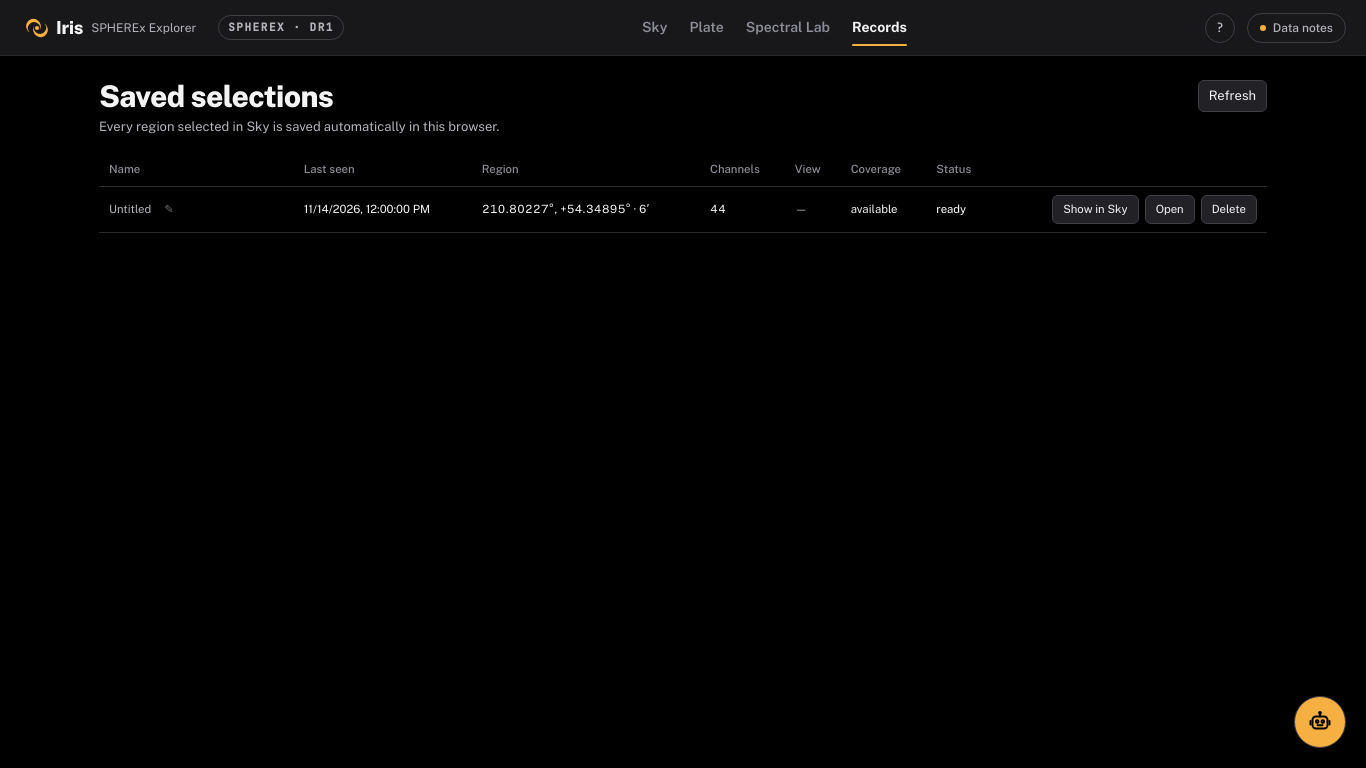
Test case: App workspace switch › edits the title in place and saves on blur
Click the button "Untitled" at (130, 209), box [109,201,151,218]
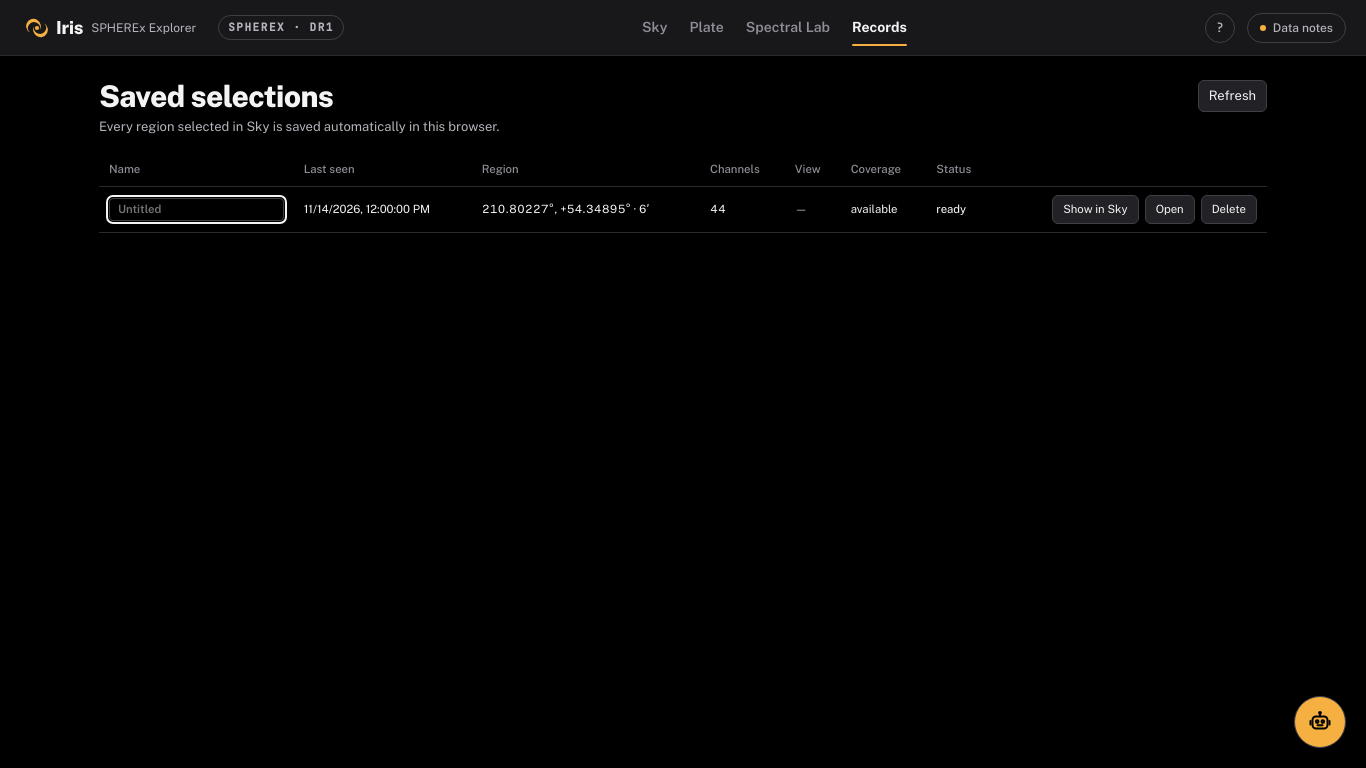
Type "M31" into the field named "Selection name" at (196, 209), box [109,198,284,221]
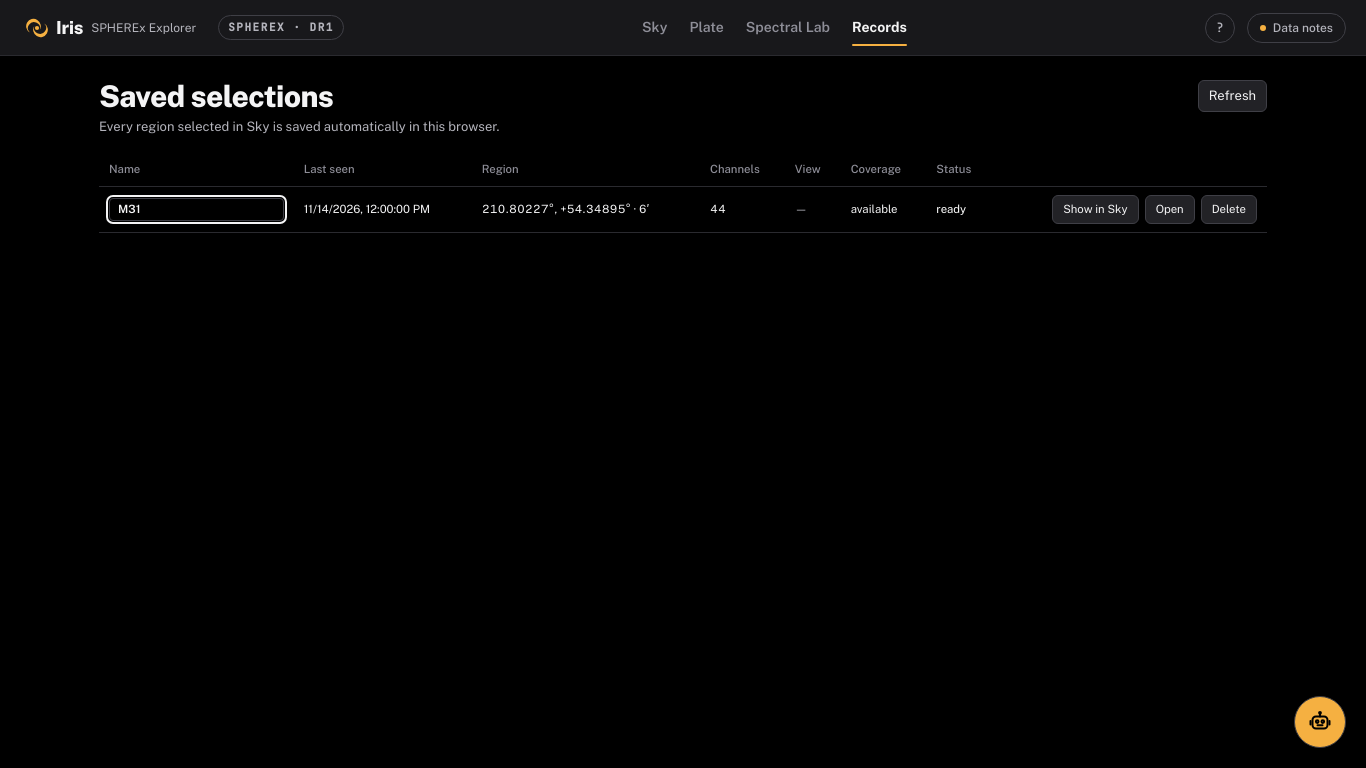
Leave the field named "Selection name", box [109,198,284,221]
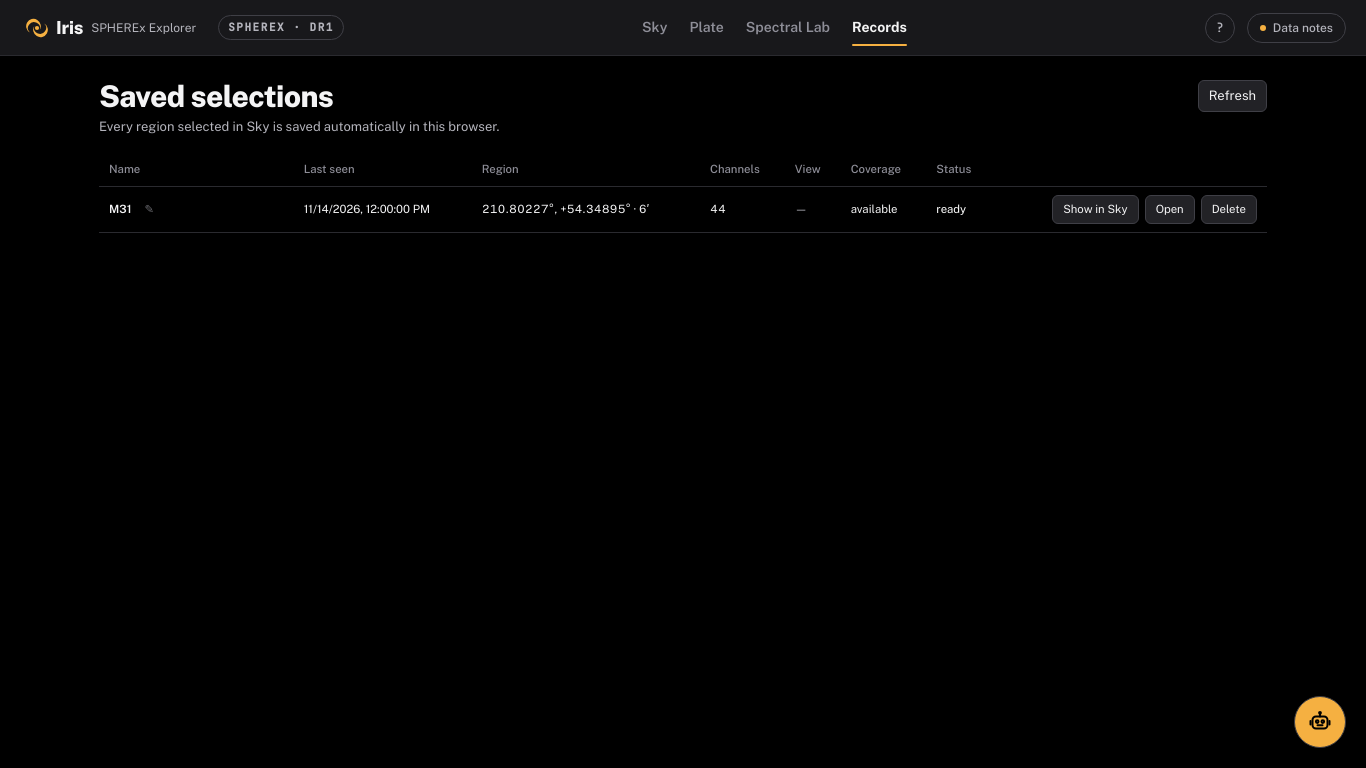
Check: the button "M31" is shown, box [109,201,131,218]
